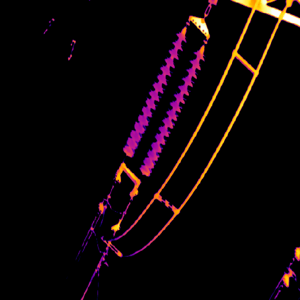insulator: (121, 26, 205, 176)
